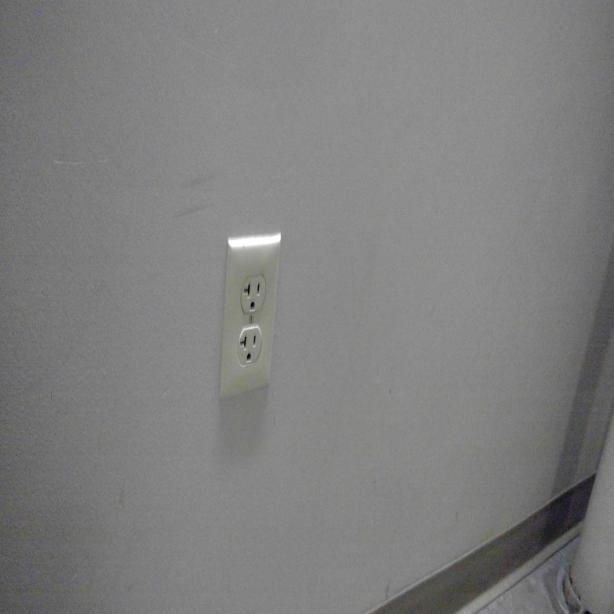typeb: (238, 327, 262, 366), (241, 276, 266, 313)
